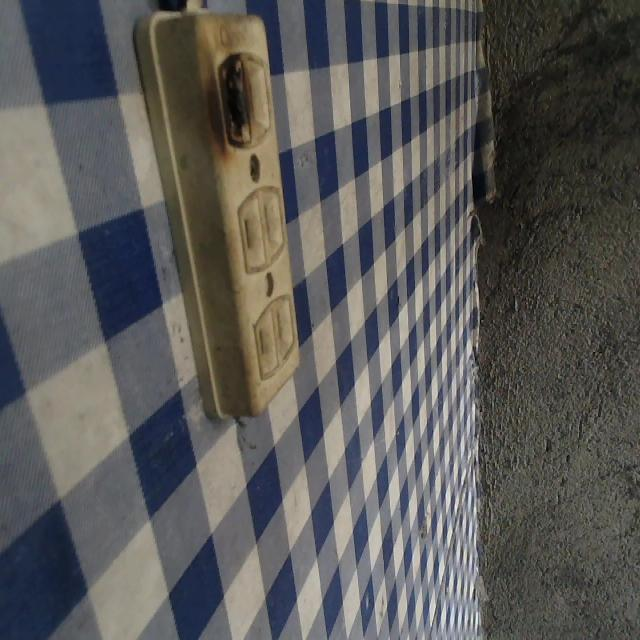-: (200, 39, 271, 157)
